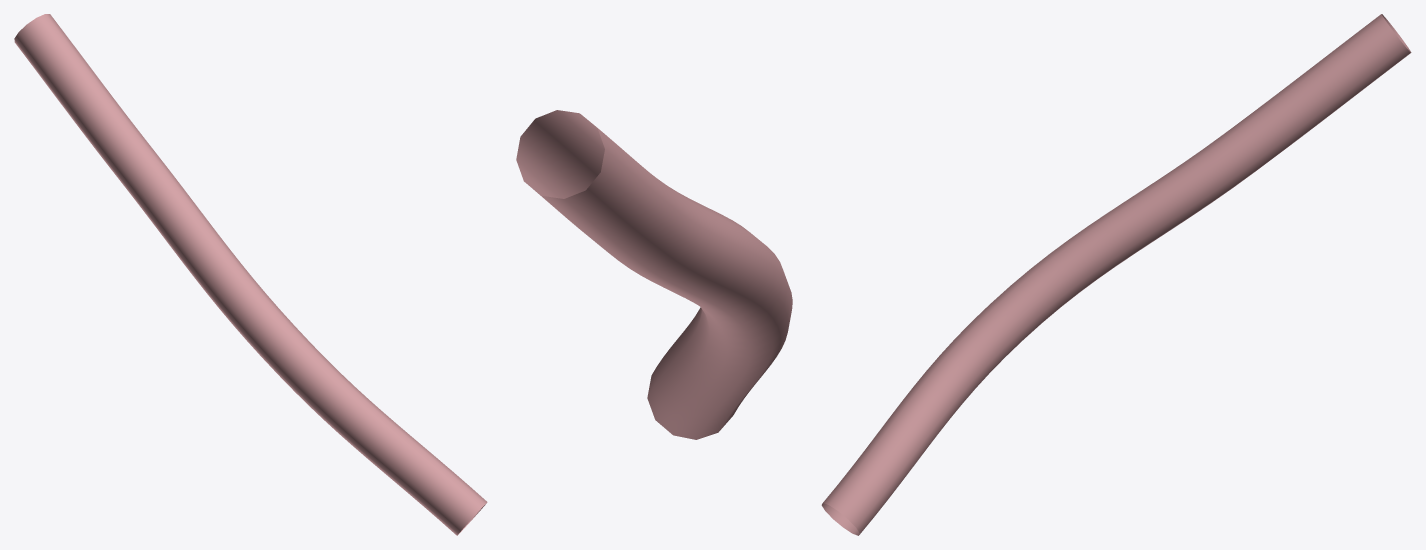
3 renders of one model, left to right at view 1: azimuth 30°, elevation 25°; view 2: azimuth 150°, elevation 25°; view 3: azimuth 270°, elevation 25°, orthographic. The views are drawn at different scales.
Parts seen in each view (by area): view 1: ZA_e9eae5c5c48d1543; view 2: ZA_e9eae5c5c48d1543; view 3: ZA_e9eae5c5c48d1543.
Part boxes in pixels (box(x1,y1,x2,y2)): ZA_e9eae5c5c48d1543: box(14, 14, 487, 535); ZA_e9eae5c5c48d1543: box(516, 110, 792, 439); ZA_e9eae5c5c48d1543: box(821, 14, 1411, 535).
Size of the model in its own units: 0.00904 by 0.0149 by 0.0188.
